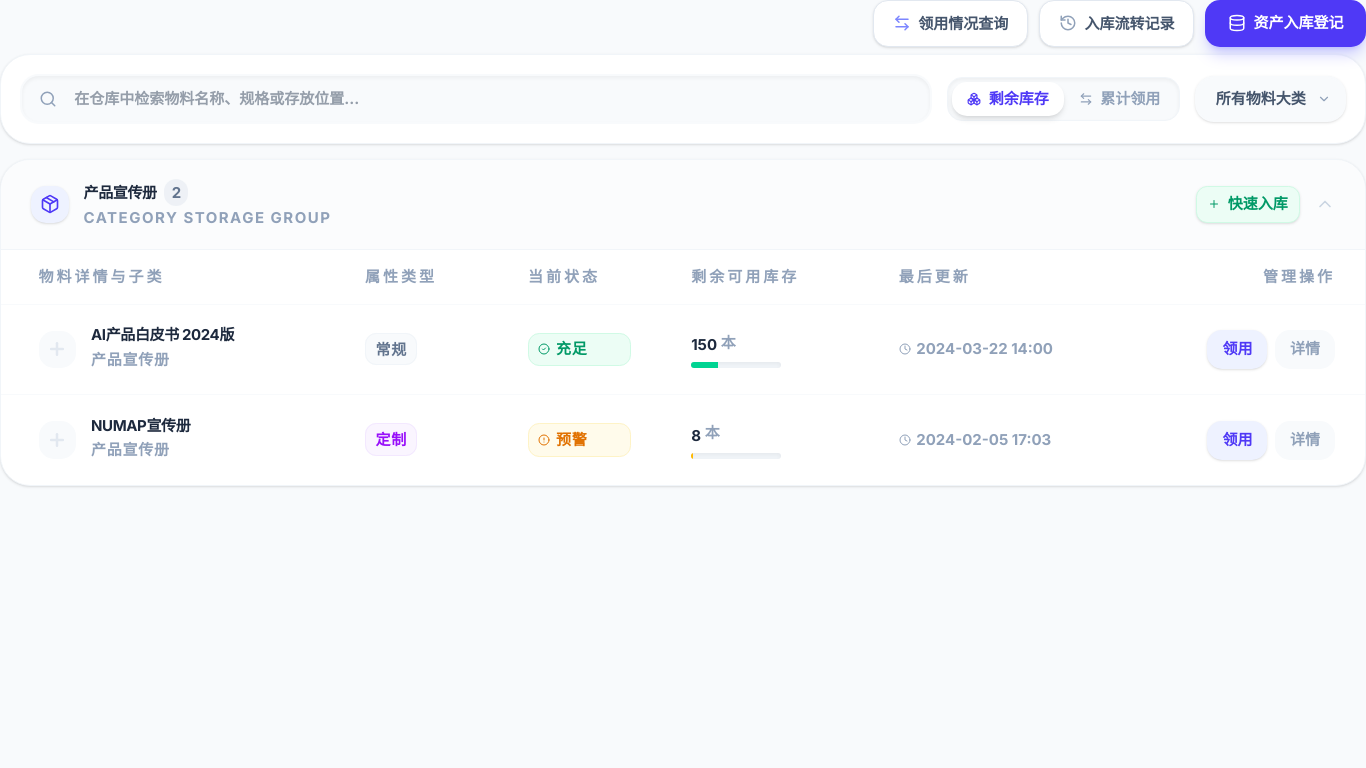
Test case: 物料管理页面交互测试 › 顶部操作按钮交互 › 点击资产入库登记应打开弹窗
Click the button "资产入库登记": click(1286, 23) 1206,0 -> 1365,46
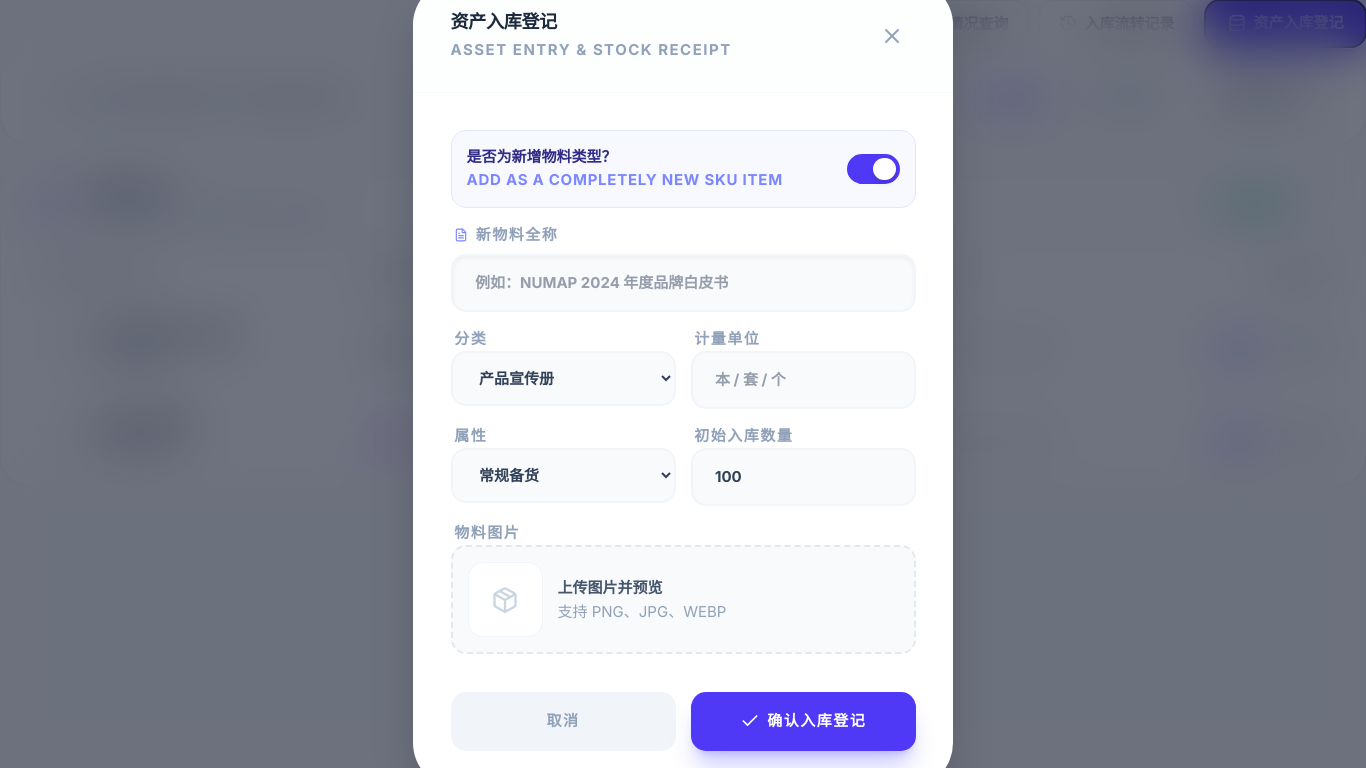
Expected: the button "确认入库登记" is shown, 690,692 -> 916,750
